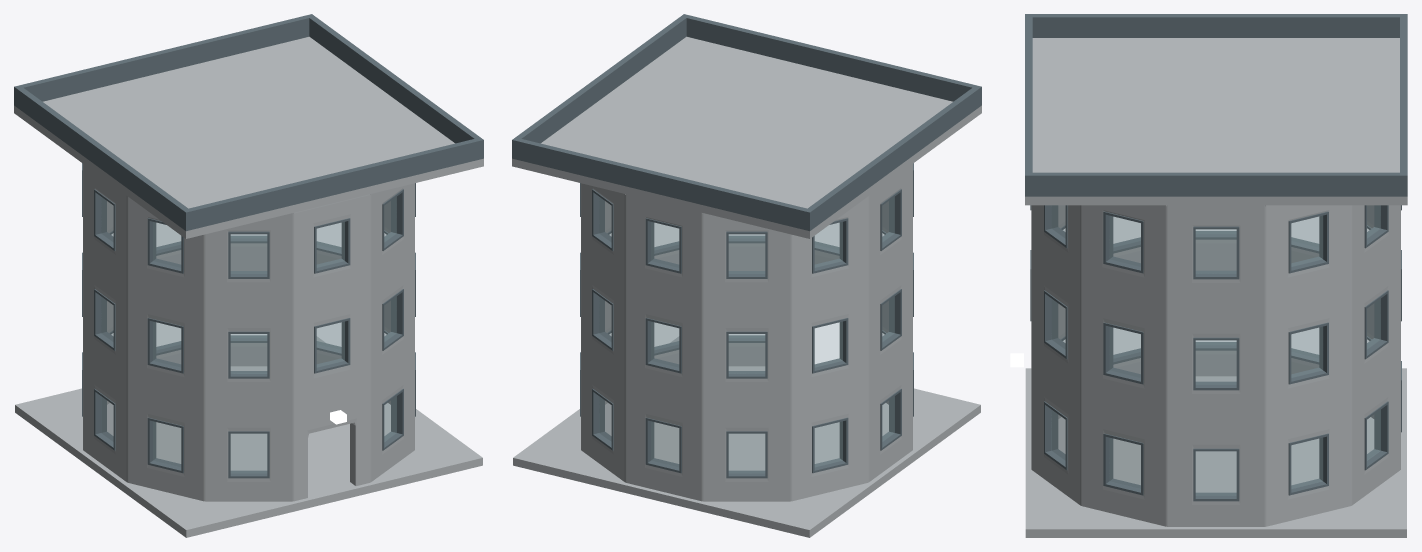
Rendered from tower_3_lod0.glb.
The picture shows the model from 3 angles, left to right: view 1: azimuth 30°, elevation 25°; view 2: azimuth 150°, elevation 25°; view 3: azimuth 270°, elevation 25°; orthographic projection. The views are drawn at different scales.
Parts seen in each view (by area): view 1: Ceiling baked, Wall_11 baked, Floor baked, Wall_0 baked, Wall_10 baked, Wall_9 baked, Wall_1 baked, Parapet baked, Parapet.002 baked, Parapet.001 baked, Parapet.003 baked, Wall_5 baked (+8 smaller); view 2: Ceiling baked, Wall_7 baked, Wall_6 baked, Floor baked, Wall_8 baked, Wall_9 baked, Wall_5 baked, Parapet.002 baked, Parapet baked, Parapet.001 baked, Parapet.003 baked, Wall_1 baked (+9 smaller); view 3: Ceiling baked, Wall_3 baked, Wall_4 baked, Wall_2 baked, Floor baked, Wall_5 baked, Wall_1 baked, Parapet.003 baked, Parapet.001 baked, Wall_9 baked, Glazing.008 baked, Glazing.009 baked (+26 smaller).
Boxes of the visible parts, x1,y1,x2,y2 form: Ceiling baked: (14, 36, 483, 238); Wall_11 baked: (204, 213, 293, 501); Floor baked: (15, 336, 482, 537); Wall_0 baked: (293, 194, 370, 501); Wall_10 baked: (127, 196, 204, 501); Wall_9 baked: (83, 164, 127, 482); Wall_1 baked: (370, 183, 414, 482); Parapet baked: (182, 137, 483, 231); Parapet.002 baked: (14, 14, 314, 107); Parapet.001 baked: (17, 87, 187, 228); Parapet.003 baked: (309, 16, 479, 143); Wall_5 baked: (230, 243, 267, 366); Ceiling baked: (512, 36, 981, 238); Wall_7 baked: (702, 213, 791, 501); Wall_6 baked: (625, 194, 702, 501); Floor baked: (513, 336, 980, 537); Wall_8 baked: (791, 196, 868, 501); Wall_9 baked: (868, 164, 912, 482); Wall_5 baked: (581, 183, 625, 482); Parapet.002 baked: (512, 137, 813, 231); Parapet baked: (681, 14, 981, 107); Parapet.001 baked: (808, 87, 978, 228); Parapet.003 baked: (516, 16, 686, 143); Wall_1 baked: (728, 243, 765, 366); Ceiling baked: (1025, 38, 1407, 205); Wall_3 baked: (1166, 205, 1265, 526); Wall_4 baked: (1265, 205, 1351, 526); Wall_2 baked: (1081, 205, 1166, 526); Floor baked: (1025, 368, 1406, 537); Wall_5 baked: (1351, 205, 1400, 505); Wall_1 baked: (1031, 205, 1080, 505); Parapet.003 baked: (1032, 172, 1399, 196); Parapet.001 baked: (1032, 14, 1399, 37); Wall_9 baked: (1195, 239, 1236, 376); Glazing.008 baked: (1196, 451, 1236, 495); Glazing.009 baked: (1196, 340, 1236, 384).
Bounding box in the file's own units: 10 × 10.45 × 10.38.
